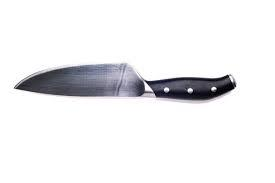Knife: (13, 62, 236, 100)
